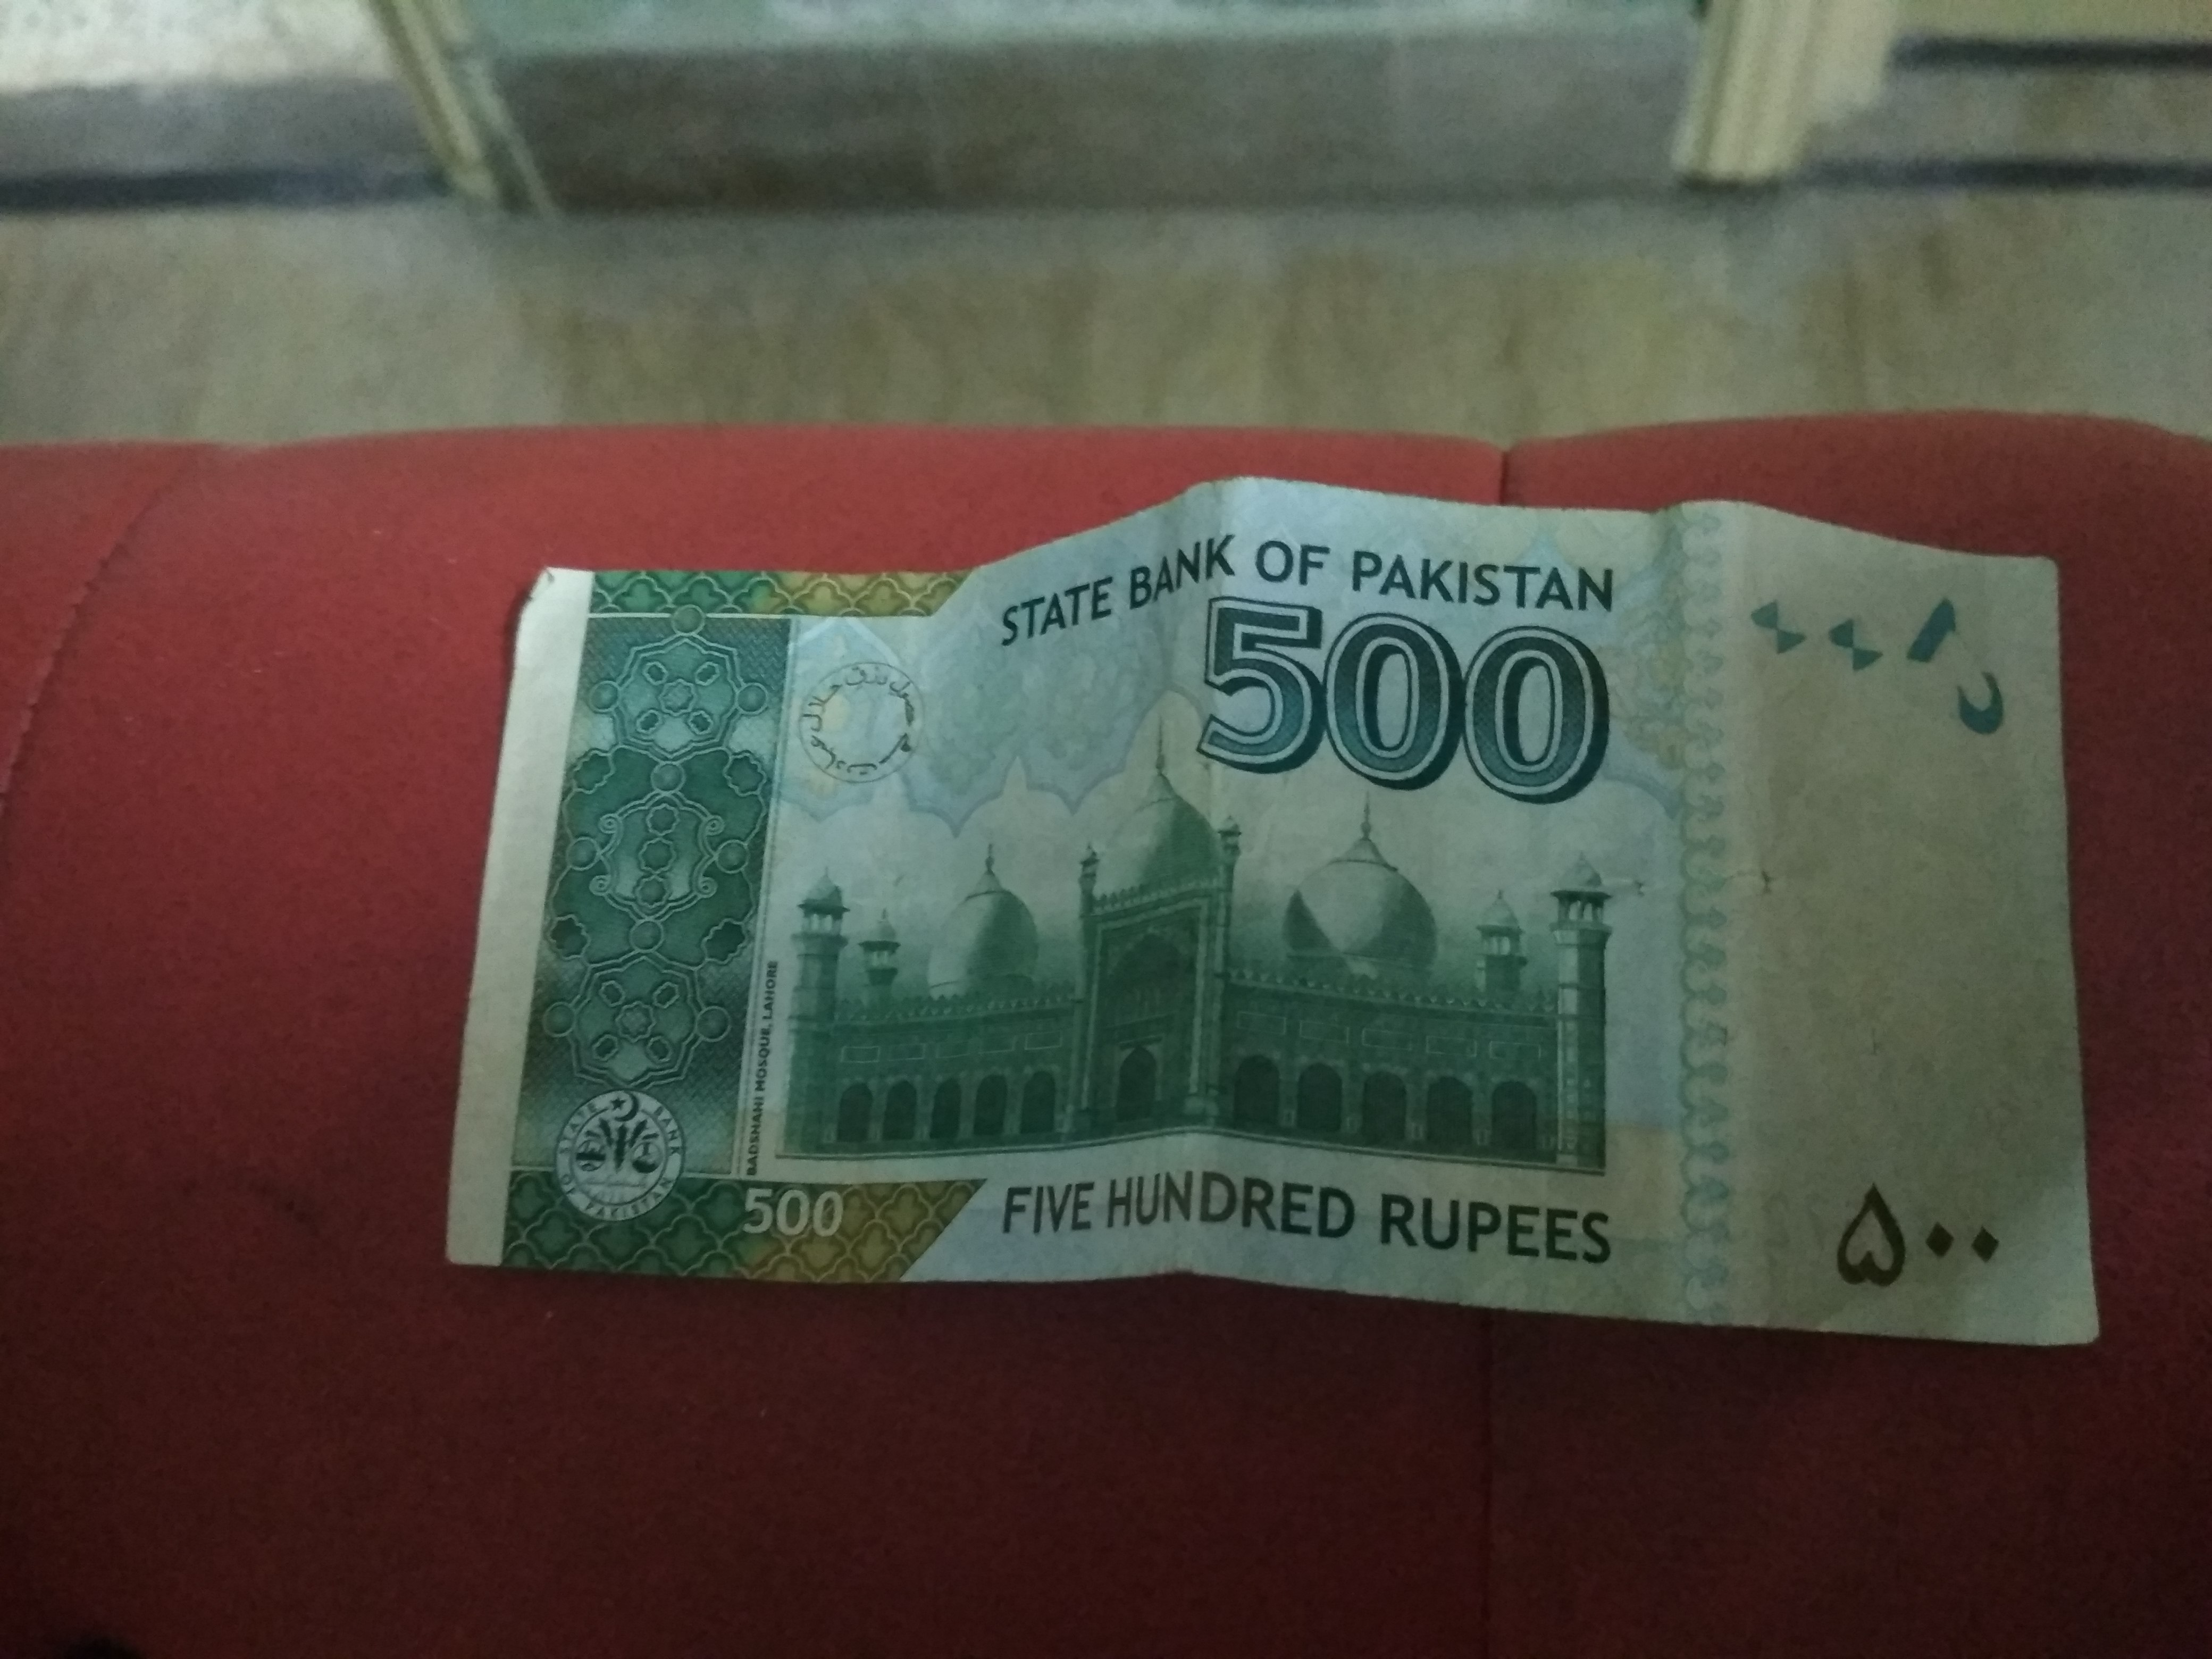500 rupee: (463, 483, 2107, 1429)
